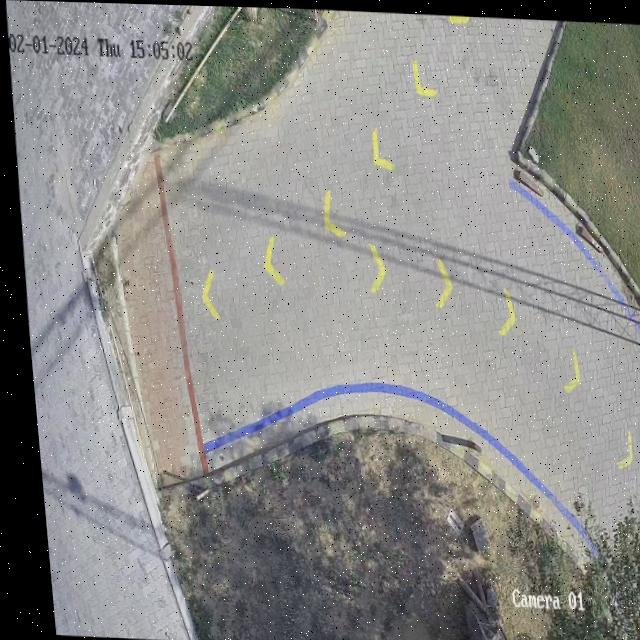No Car: (6, 0, 640, 640)
